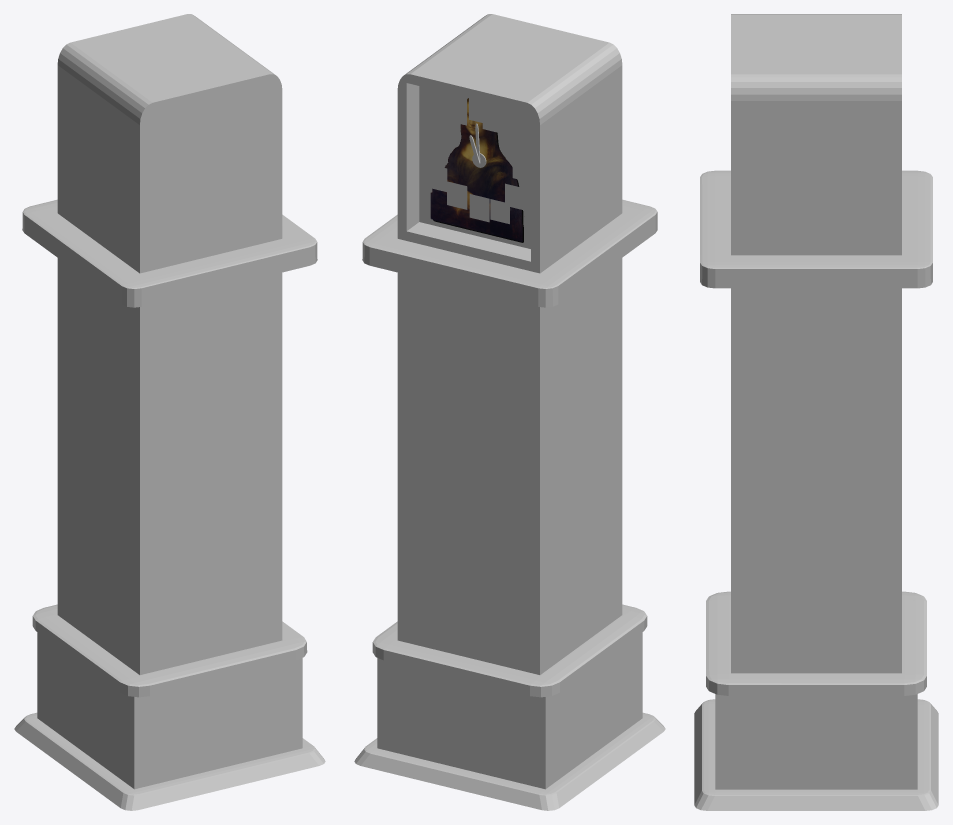
The model's file is galleryFinal.obj.
3 views of the same model, side by side, from view 1: azimuth 30°, elevation 25°; view 2: azimuth 150°, elevation 25°; view 3: azimuth 270°, elevation 25° (orthographic). The views are drawn at different scales.
Parts seen in each view (by area): view 1: Cube.002; view 2: Cube.002; view 3: Cube.002.
Part boxes in pixels (box(x1,y1,x2,y2)): Cube.002: box(14, 14, 325, 810); Cube.002: box(354, 14, 665, 810); Cube.002: box(694, 14, 938, 810).
Size of the model in its own units: 3.06 by 9.87 by 3.06.
